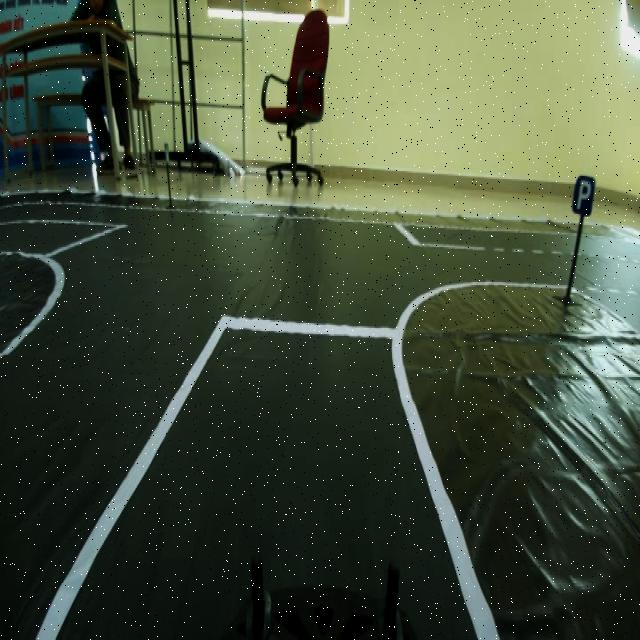parking: (572, 168, 596, 217)
